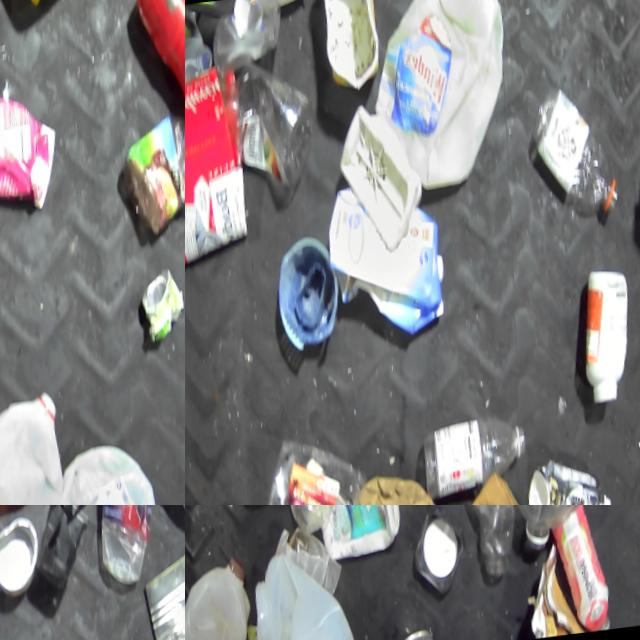can: (129, 509, 185, 640), (135, 271, 185, 350), (398, 621, 447, 640)
milk_jug: (359, 0, 522, 195), (0, 382, 85, 505), (252, 547, 364, 640), (46, 437, 185, 505), (185, 554, 267, 640), (185, 0, 218, 126)
plastic_bottle: (522, 84, 628, 229), (418, 411, 538, 500), (552, 505, 626, 637), (451, 505, 544, 591)
